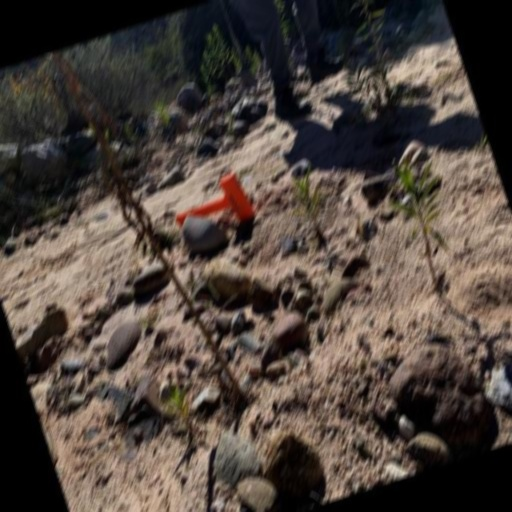mallet: (167, 167, 258, 244)
